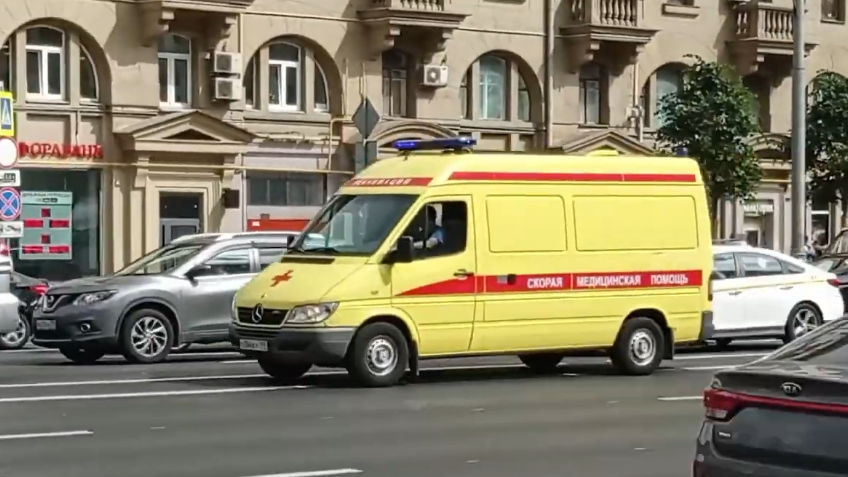intensive care unit: (230, 139, 716, 386)
non emergency car: (33, 231, 300, 365), (687, 312, 847, 475), (716, 240, 840, 349)
